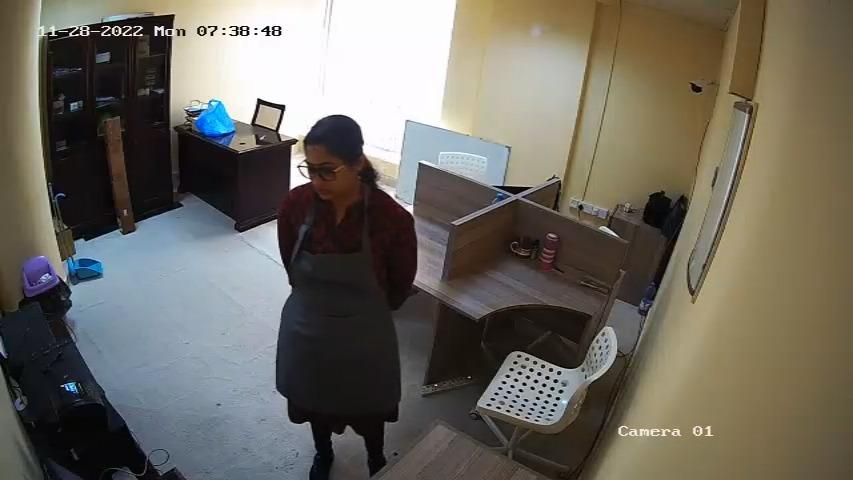apron: (280, 205, 396, 410)
